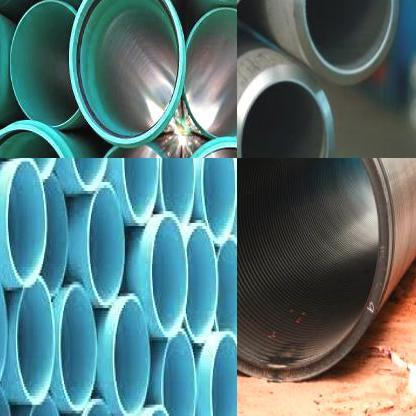pipe: (237, 158, 390, 381), (68, 0, 183, 143), (293, 0, 401, 89), (237, 62, 337, 158), (9, 0, 80, 128), (126, 203, 186, 333), (185, 6, 237, 138), (0, 158, 50, 288), (87, 168, 132, 309), (58, 281, 99, 416), (190, 333, 237, 416), (202, 158, 237, 240)
